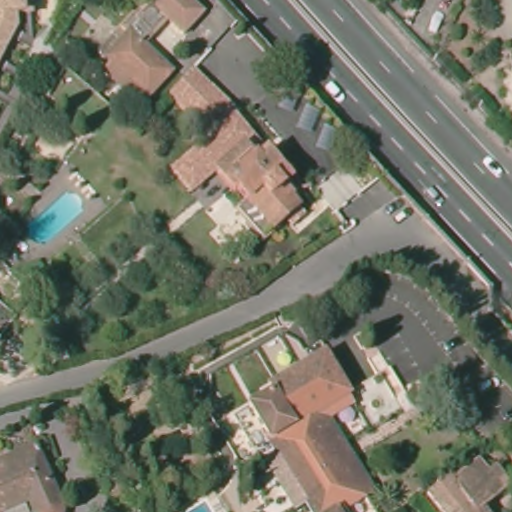pool: (19, 191, 84, 244)
